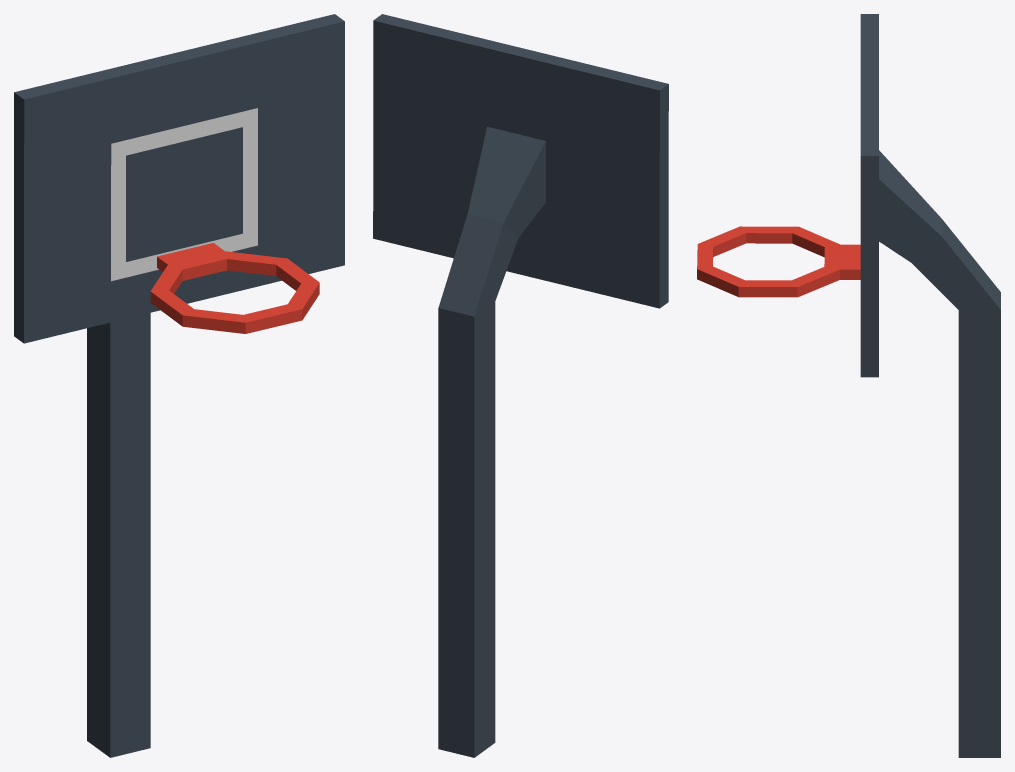
Rendered from basket.fbx.
3 renders of one model, left to right at view 1: azimuth 30°, elevation 25°; view 2: azimuth 150°, elevation 25°; view 3: azimuth 270°, elevation 25°, orthographic. The views are drawn at different scales.
Visible parts, largest first — view 1: корзина; view 2: корзина; view 3: корзина.
Part boxes in pixels (left/top/right/bottom): корзина: left=14, top=14, right=344, bottom=757; корзина: left=373, top=14, right=668, bottom=757; корзина: left=697, top=14, right=1000, bottom=757.
Size of the model in its own units: 51.78 by 113 by 46.82.
